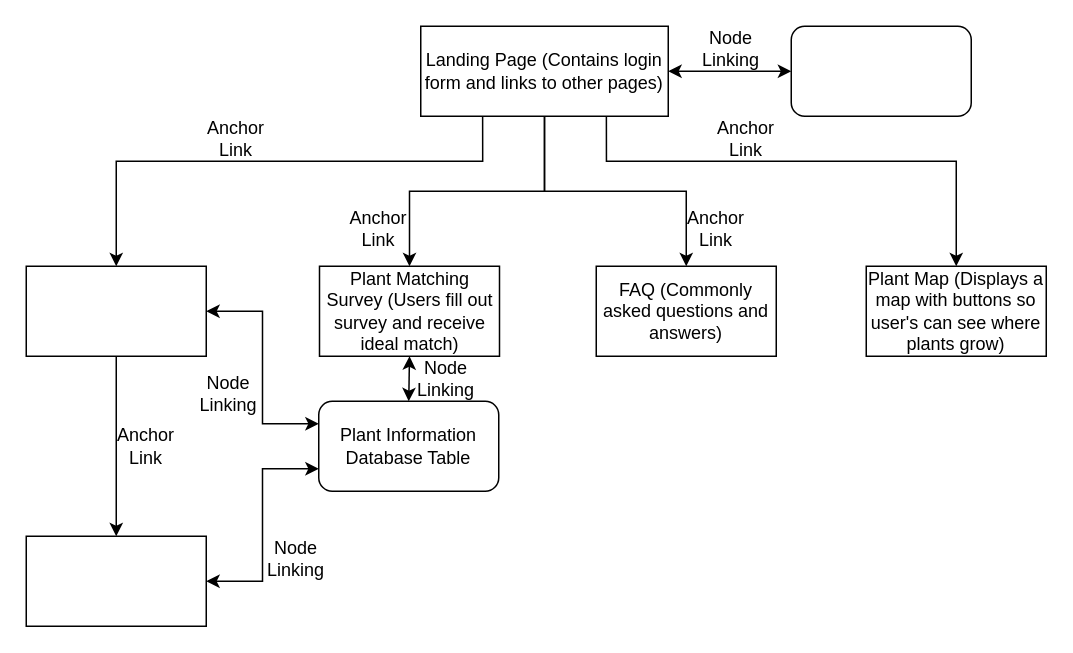
Some shapes in this 1073 by 653 pixel diagram are drawn without their labels. The shapes that lost their labels are listed below. From the top down, each one's centre as x and y in pixels, then its label:
At (880,70): "Login Information Database Table".
At (115,310): "Search Page (Users fill out search form here)".
At (115,580): "Results Page (Loads plant information when user selects from search results)".
